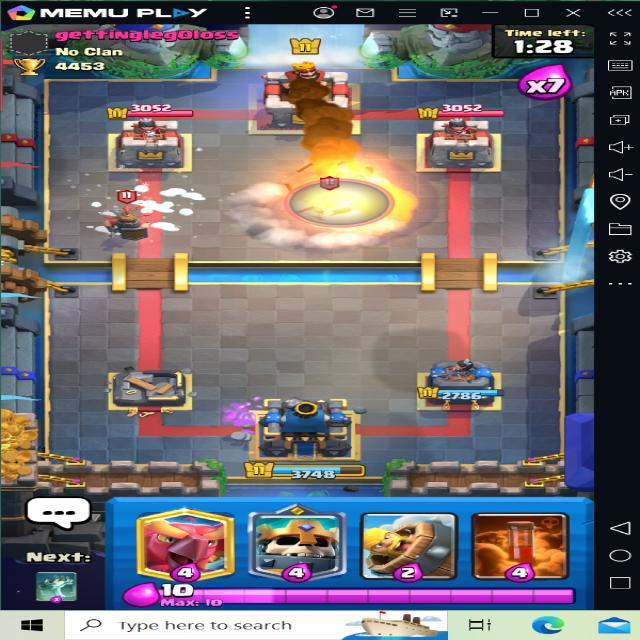royal-recruits: (100, 190, 152, 240)
